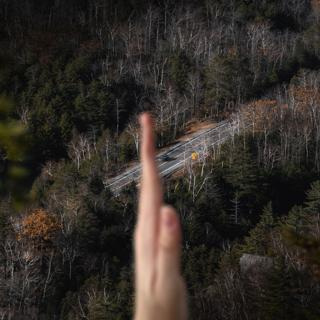Right: (112, 101, 203, 312)
